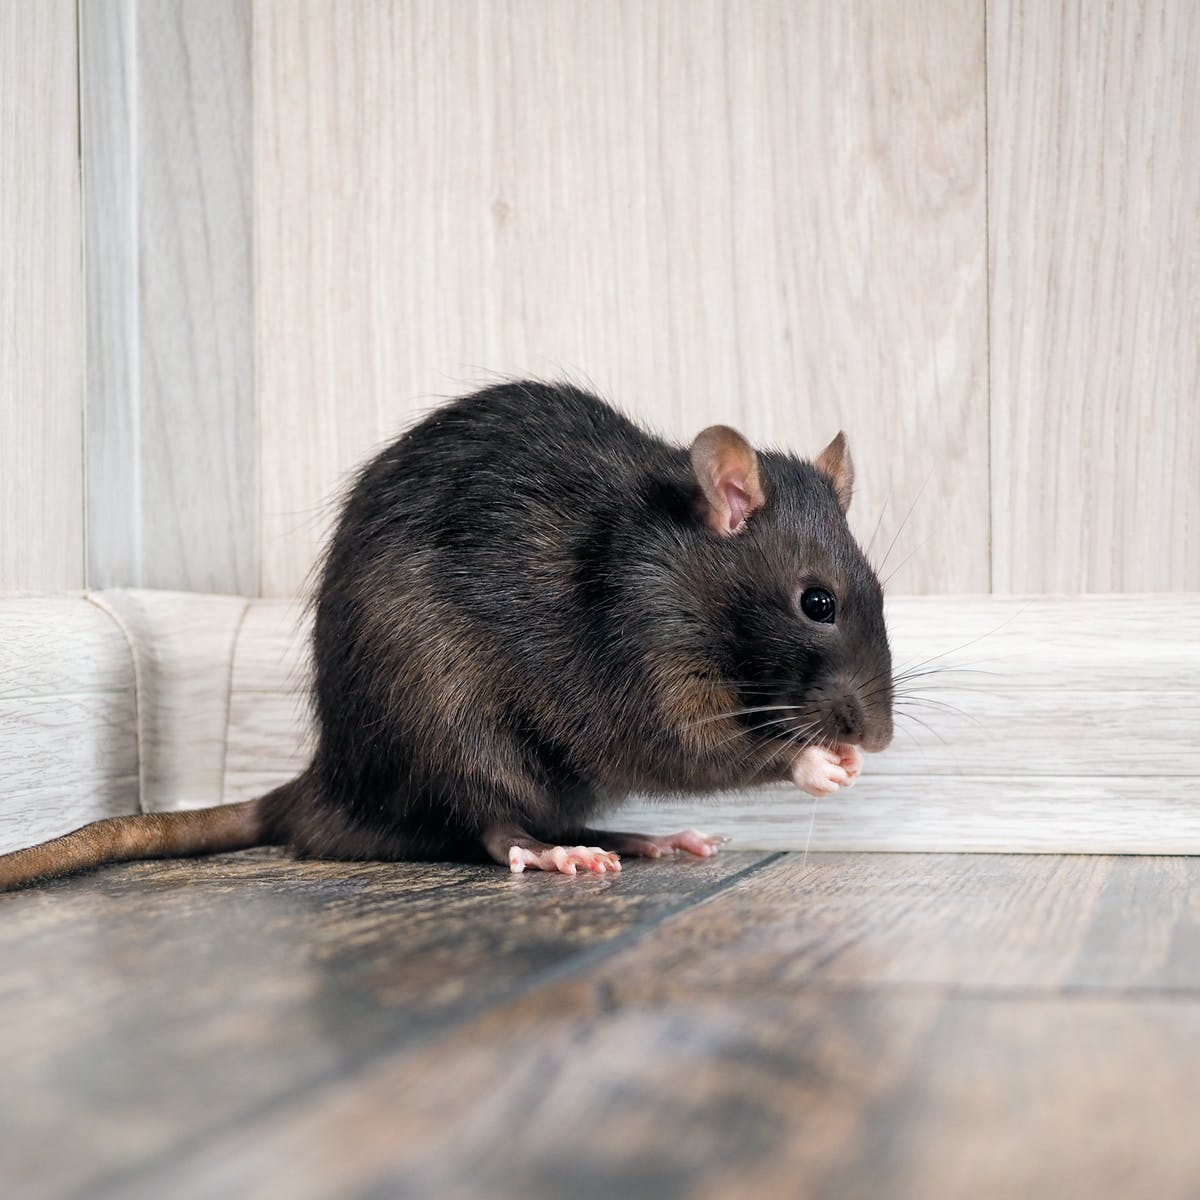Rat: (266, 342, 921, 911)
